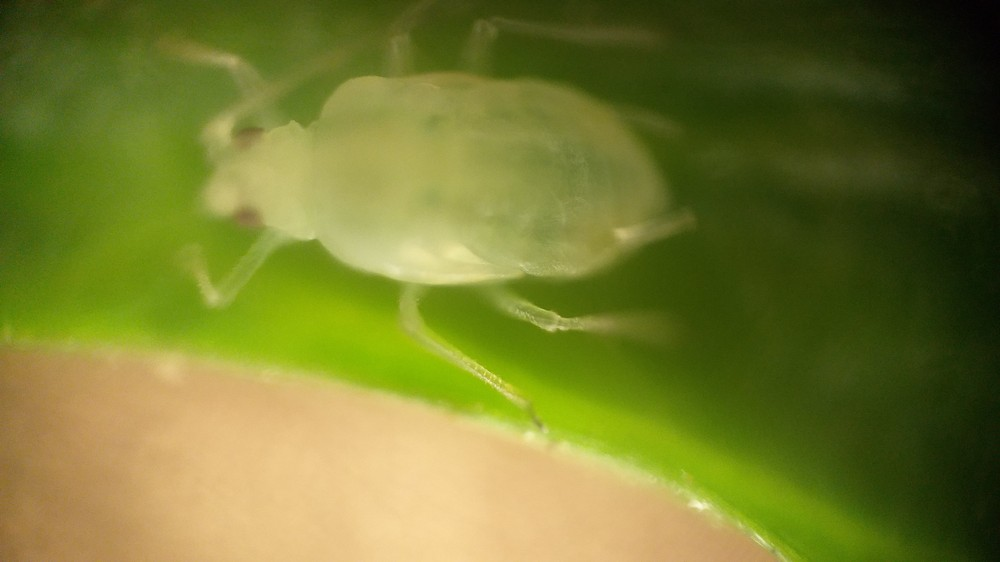Pulgon: (150, 3, 783, 420)
